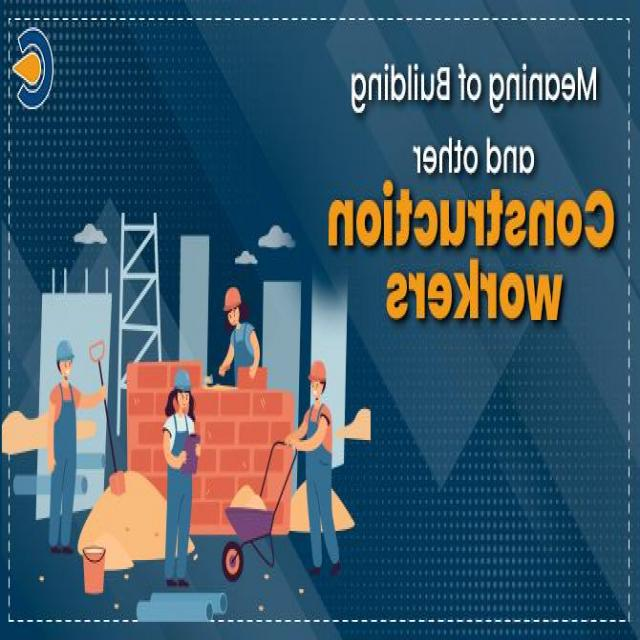Safety-Helmet: (56, 336, 76, 364), (308, 354, 328, 382), (222, 284, 242, 312), (173, 367, 192, 393)
